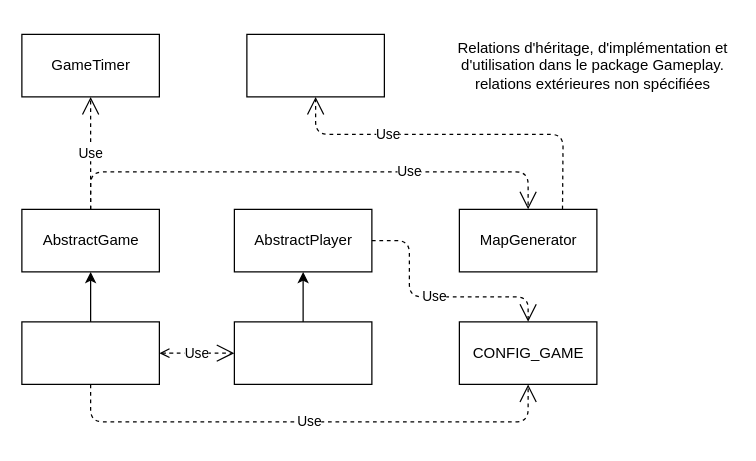
This 756x461 diagram has some shape labels left out. The centre of each missing label's shape, as x and y in pixels:
CONFIG: [315,65]
LocalGame: [90,352]
LocalPlayer: [302,352]
